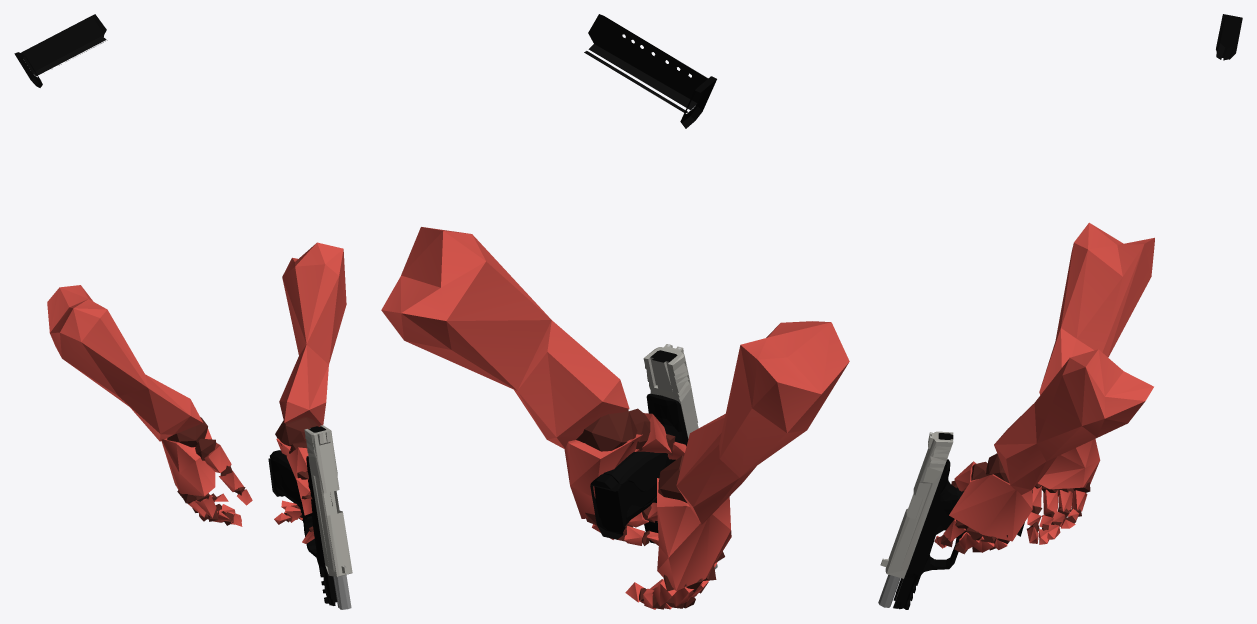
The model's file is M&P9reloadNormal1lowP_000105.obj.
3 renders of one model, left to right at view 1: azimuth 30°, elevation 25°; view 2: azimuth 150°, elevation 25°; view 3: azimuth 270°, elevation 25°, orthographic. The views are drawn at different scales.
Parts seen in each view (by area): view 1: Beta_Surface.001_Beta_Surface.002, slide_平面.002, triger_平面.001, magazine.002_平面.005, Beta_Joints.001_Beta_Joints.002; view 2: Beta_Surface.001_Beta_Surface.002, magazine.002_平面.005, triger_平面.001, Beta_Joints.001_Beta_Joints.002, slide_平面.002; view 3: Beta_Surface.001_Beta_Surface.002, triger_平面.001, slide_平面.002, Beta_Joints.001_Beta_Joints.002, magazine.002_平面.005.
Boxes of the visible parts, left/top/right/bottom form: Beta_Surface.001_Beta_Surface.002: left=47, top=242, right=346, bottom=543; slide_平面.002: left=304, top=425, right=352, bottom=576; triger_平面.001: left=270, top=450, right=351, bottom=609; magazine.002_平面.005: left=14, top=14, right=107, bottom=87; Beta_Joints.001_Beta_Joints.002: left=167, top=417, right=317, bottom=535; Beta_Surface.001_Beta_Surface.002: left=381, top=227, right=849, bottom=609; magazine.002_平面.005: left=584, top=14, right=716, bottom=128; triger_平面.001: left=590, top=393, right=717, bottom=569; Beta_Joints.001_Beta_Joints.002: left=576, top=408, right=724, bottom=609; slide_平面.002: left=643, top=344, right=698, bottom=438; Beta_Surface.001_Beta_Surface.002: left=934, top=222, right=1154, bottom=552; triger_平面.001: left=878, top=459, right=1032, bottom=609; slide_平面.002: left=880, top=431, right=953, bottom=578; Beta_Joints.001_Beta_Joints.002: left=937, top=453, right=1090, bottom=554; magazine.002_平面.005: left=1216, top=14, right=1242, bottom=60.
Bounding box in the file's own units: 72.97 × 120 × 74.15.
